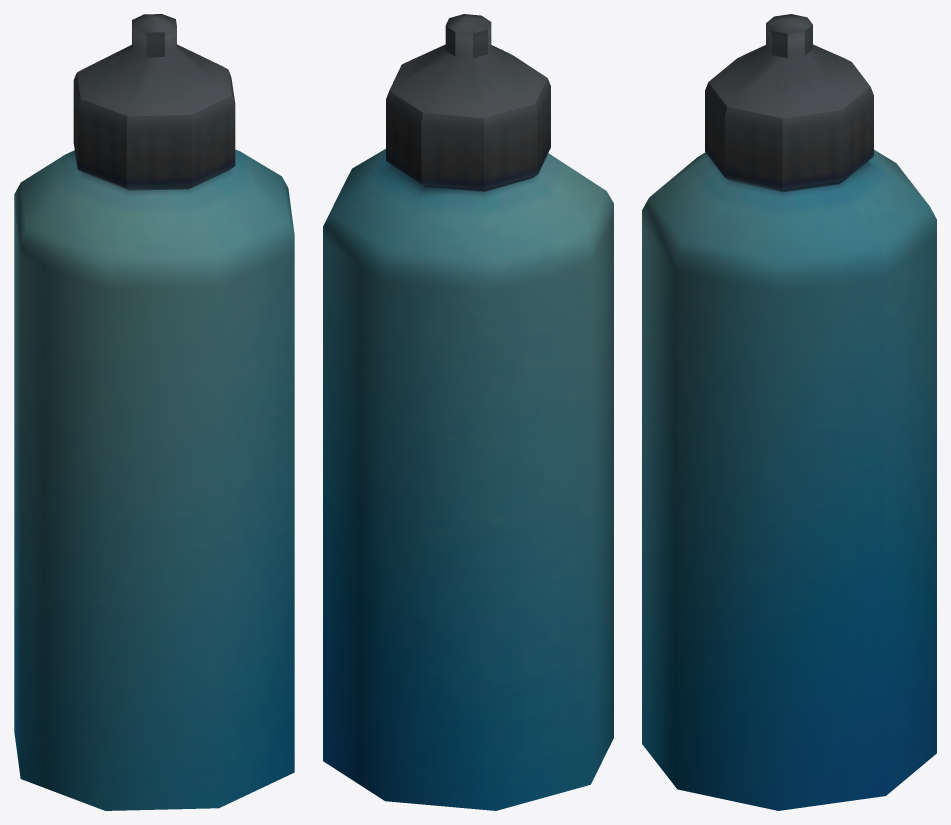
The model's file is green_bottle.FBX.
The picture shows the model from 3 angles, left to right: view 1: azimuth 30°, elevation 25°; view 2: azimuth 150°, elevation 25°; view 3: azimuth 270°, elevation 25°; orthographic projection.
Visible parts, largest first — view 1: greenBottle; view 2: greenBottle; view 3: greenBottle.
Boxes of the visible parts, x1=… form: greenBottle: x1=14, y1=14, x2=294, y2=810; greenBottle: x1=323, y1=14, x2=613, y2=810; greenBottle: x1=642, y1=14, x2=936, y2=810.
Size of the model in its own units: 10.89 by 29.73 by 10.88.
